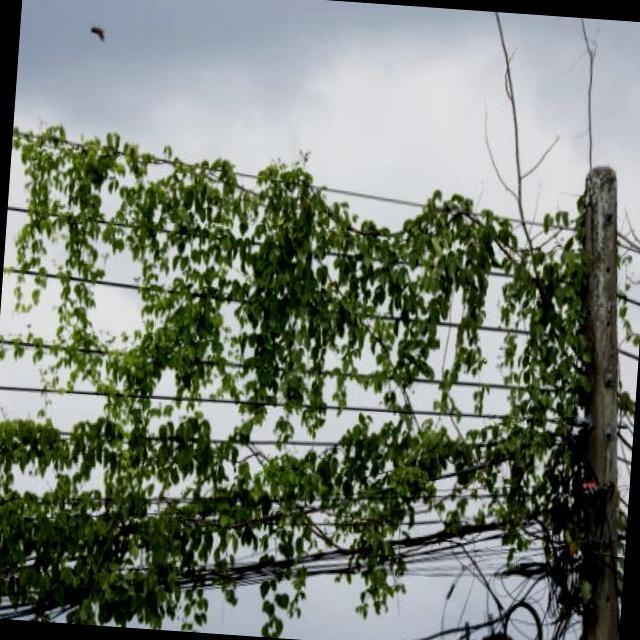critical vegetation: (11, 166, 616, 608), (519, 159, 628, 628)
